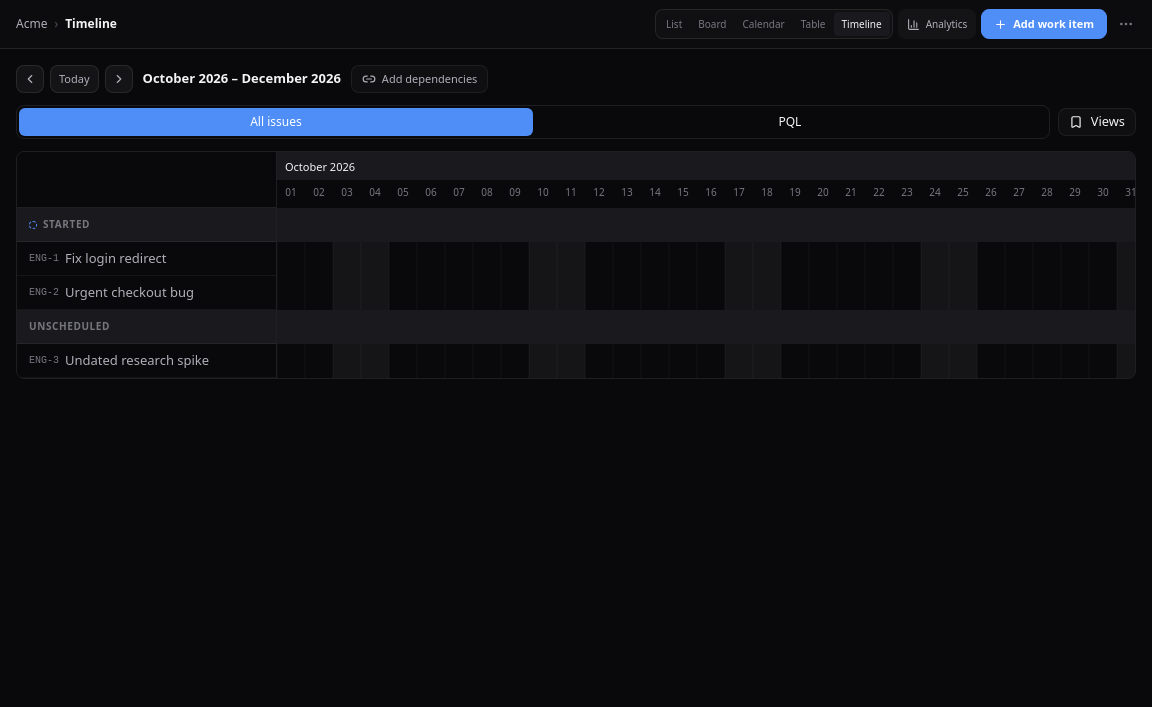
Test: Gantt saved views (C110T2) › a view whose query fails its probe surfaces the error with the bars untouched
The width and height of the screenshot is (1152, 707).
Check: the text "Fix login redirect" is shown, box x1=65 y1=249 x2=166 y2=268
Check: the text "Urgent checkout bug" is shown, box x1=65 y1=283 x2=194 y2=302
Step 1. Click the button with aria-label "Saved views" → point(1097, 122), box x1=1058 y1=108 x2=1136 y2=136
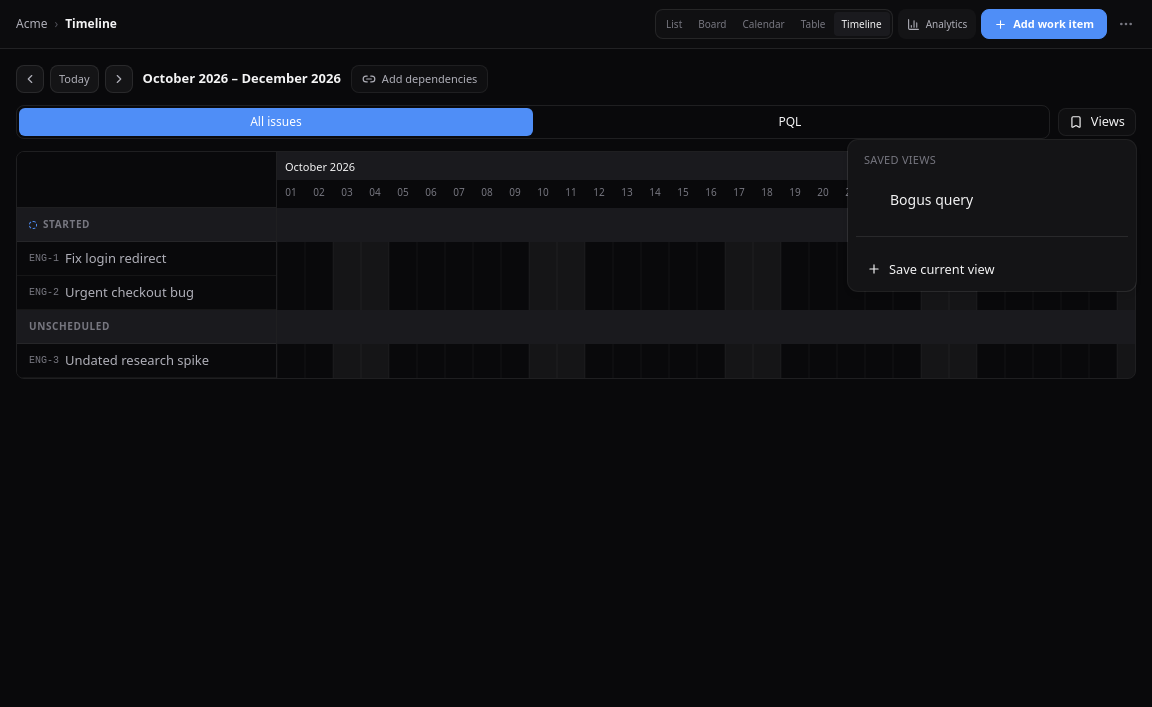
Check: the button "Save current view" is shown, box x1=856 y1=255 x2=1128 y2=283
Step 2. Click the button titled "Apply view “Bogus query”" → point(932, 200), box x1=860 y1=184 x2=1004 y2=216
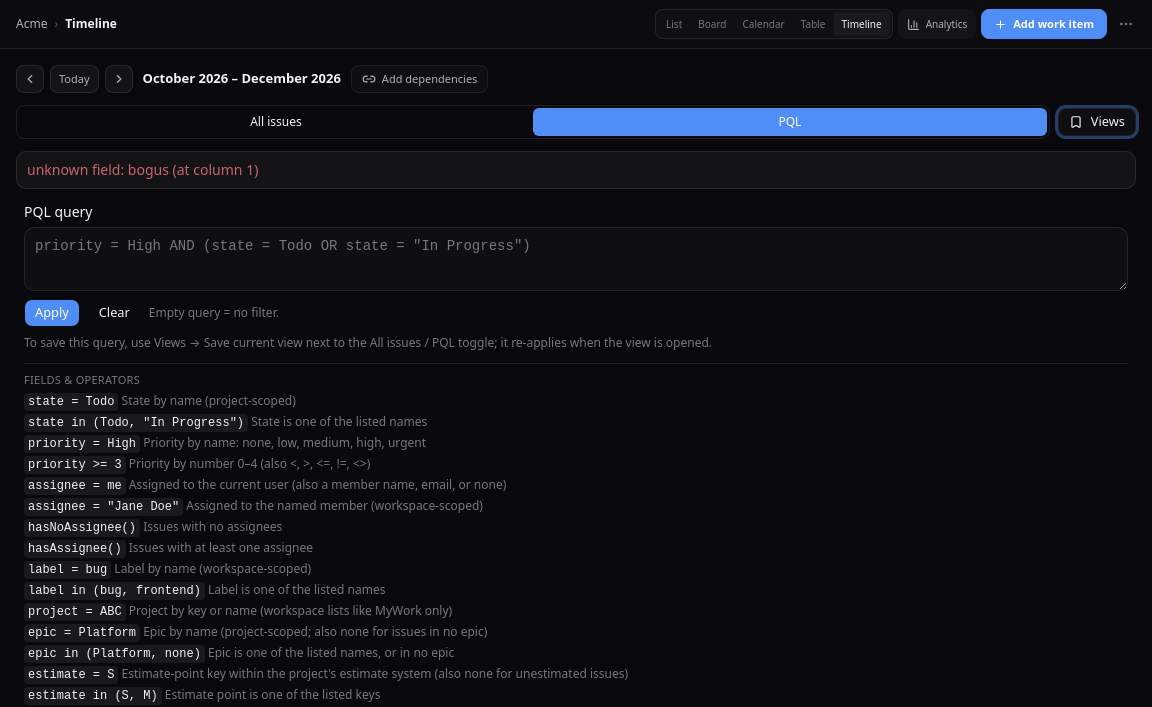
Check: the message shows "unknown field: bogus", box x1=27 y1=160 x2=258 y2=179
Check: the text box labelled "PQL query" is empty, box x1=24 y1=227 x2=1128 y2=291
